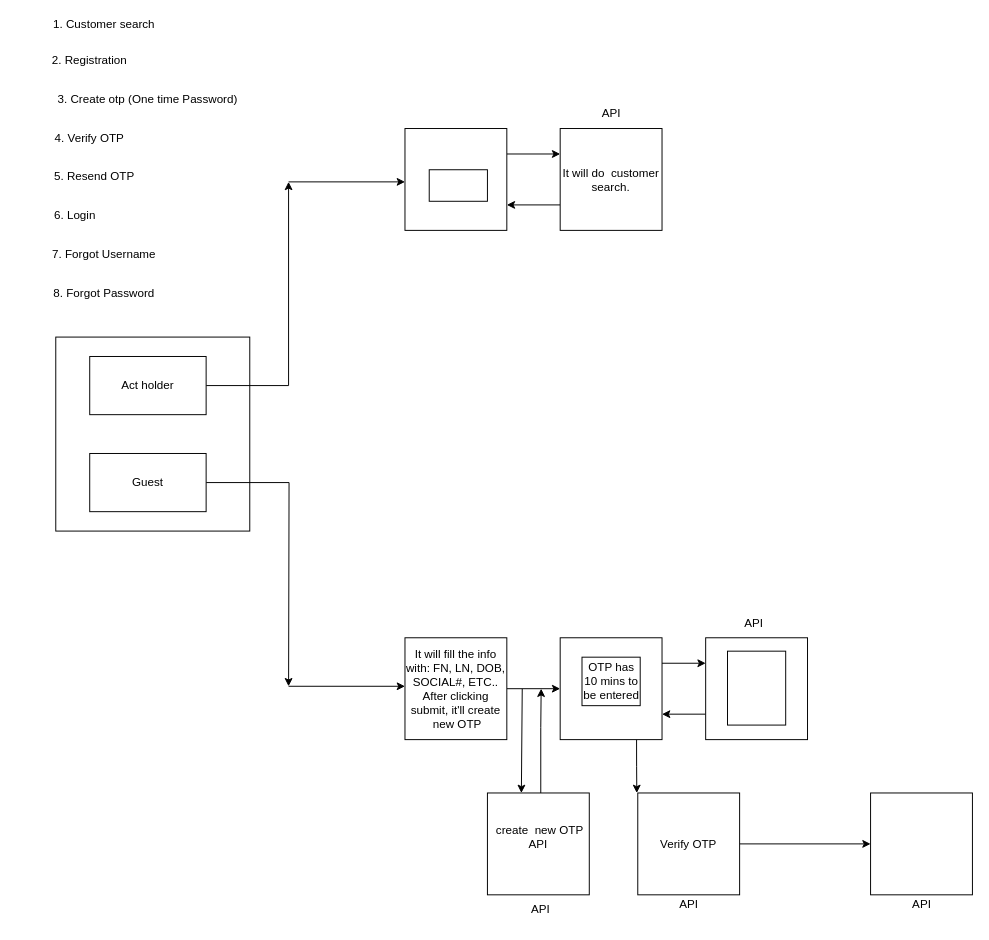
Image size: 989x940. Some labels were removed from this diagram. The shapes that lost their labels are listed below. From the top down, each one's box as (x1, y1, x2, y2) in pixels, then its label:
(428, 169, 487, 201): Login
(727, 650, 786, 725): resend OTP and again has 60s to be enter
(870, 792, 972, 895): Enter the password and make sure it satify the conditions then submit...
